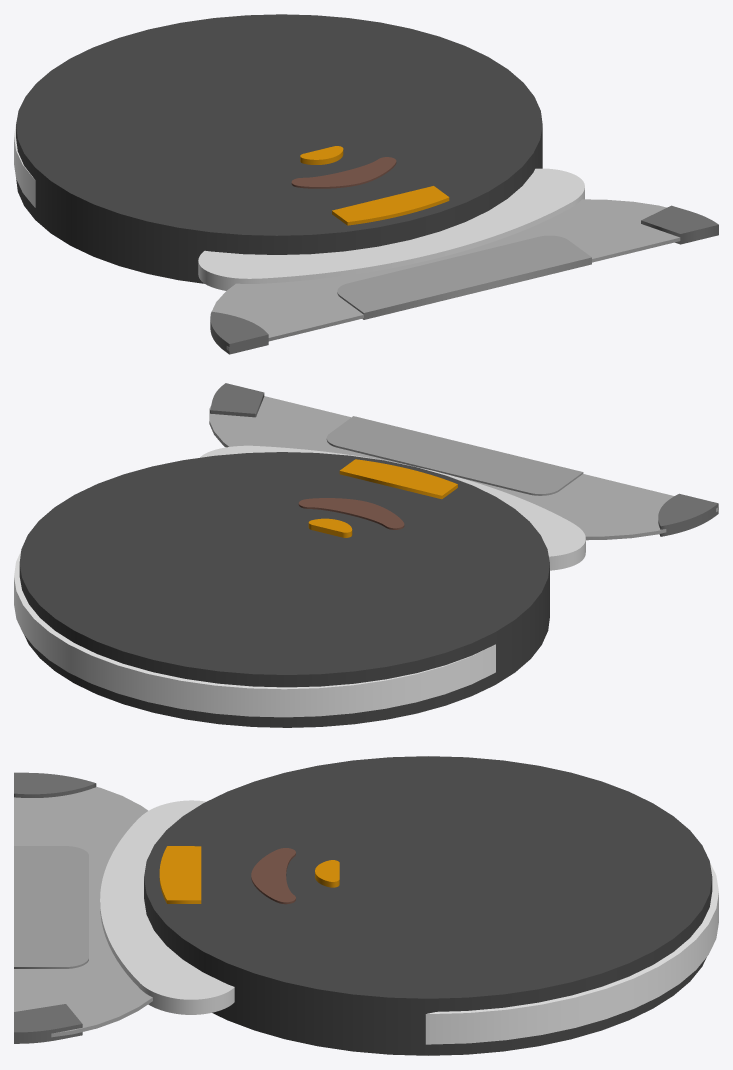
The model's file is emoji_u1f469_200d_1f680.glb.
The picture shows the model from 3 angles, top to bottom: view 1: azimuth 30°, elevation 25°; view 2: azimuth 150°, elevation 25°; view 3: azimuth 270°, elevation 25°; orthographic projection. The views are drawn at different scales.
Visible parts, largest first — view 1: emoji_u1f469_200d_1f680; view 2: emoji_u1f469_200d_1f680; view 3: emoji_u1f469_200d_1f680.
Part boxes in pixels (x1=…): emoji_u1f469_200d_1f680: x1=14, y1=14, x2=718, y2=354; emoji_u1f469_200d_1f680: x1=14, y1=383, x2=718, y2=727; emoji_u1f469_200d_1f680: x1=14, y1=756, x2=718, y2=1055.
Size of the model in its own units: 0.0293 by 0.0036 by 0.0336.
